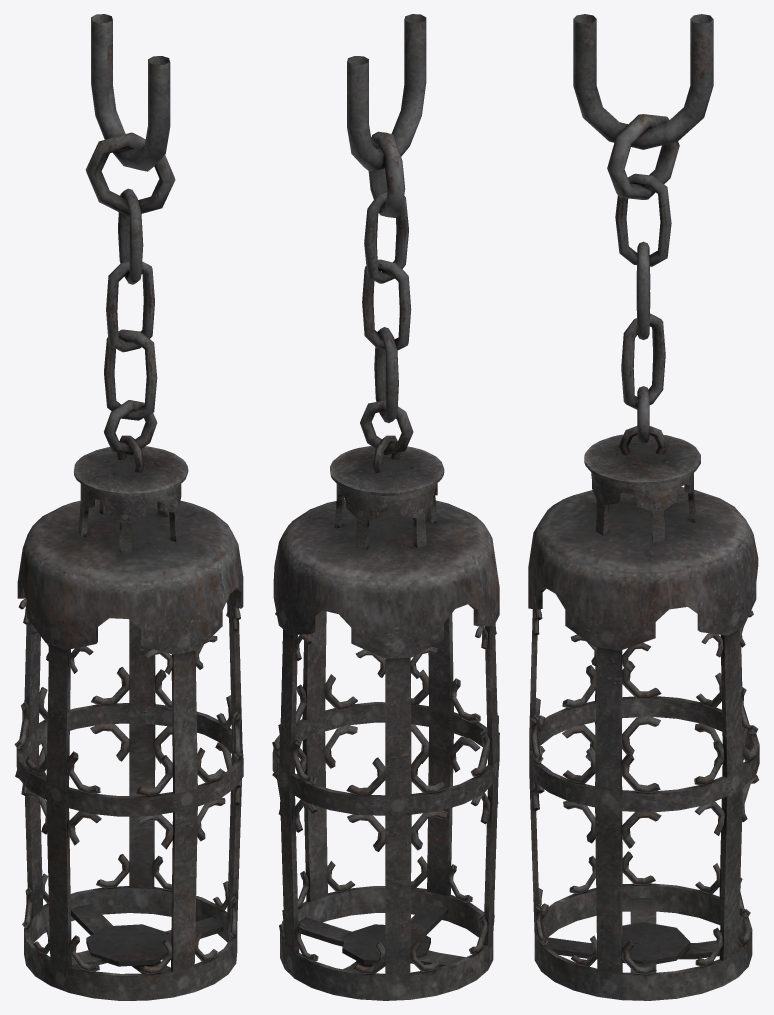
File: SM_Lantern_01_01.fbx
3 renders of one model, left to right at view 1: azimuth 30°, elevation 25°; view 2: azimuth 150°, elevation 25°; view 3: azimuth 270°, elevation 25°, orthographic. The views are drawn at different scales.
Parts seen in each view (by area): view 1: sm_Lantern_01_01_LOD0; view 2: sm_Lantern_01_01_LOD0; view 3: sm_Lantern_01_01_LOD0.
Part boxes in pixels (box(x1,y1,x2,y2)): sm_Lantern_01_01_LOD0: box(14, 14, 243, 1000); sm_Lantern_01_01_LOD0: box(272, 14, 499, 1000); sm_Lantern_01_01_LOD0: box(528, 14, 759, 1000).
Bounding box in the file's own units: 20.74 × 20.99 × 92.54.
